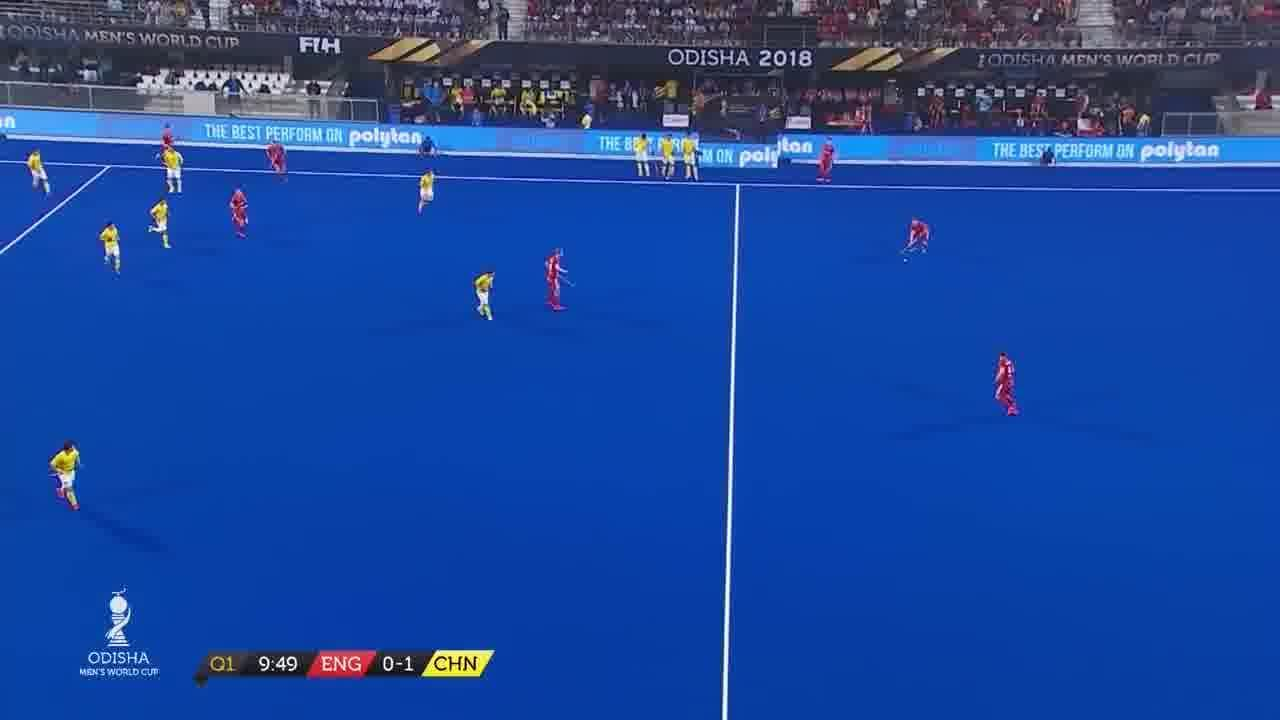ball: (900, 256, 909, 265)
